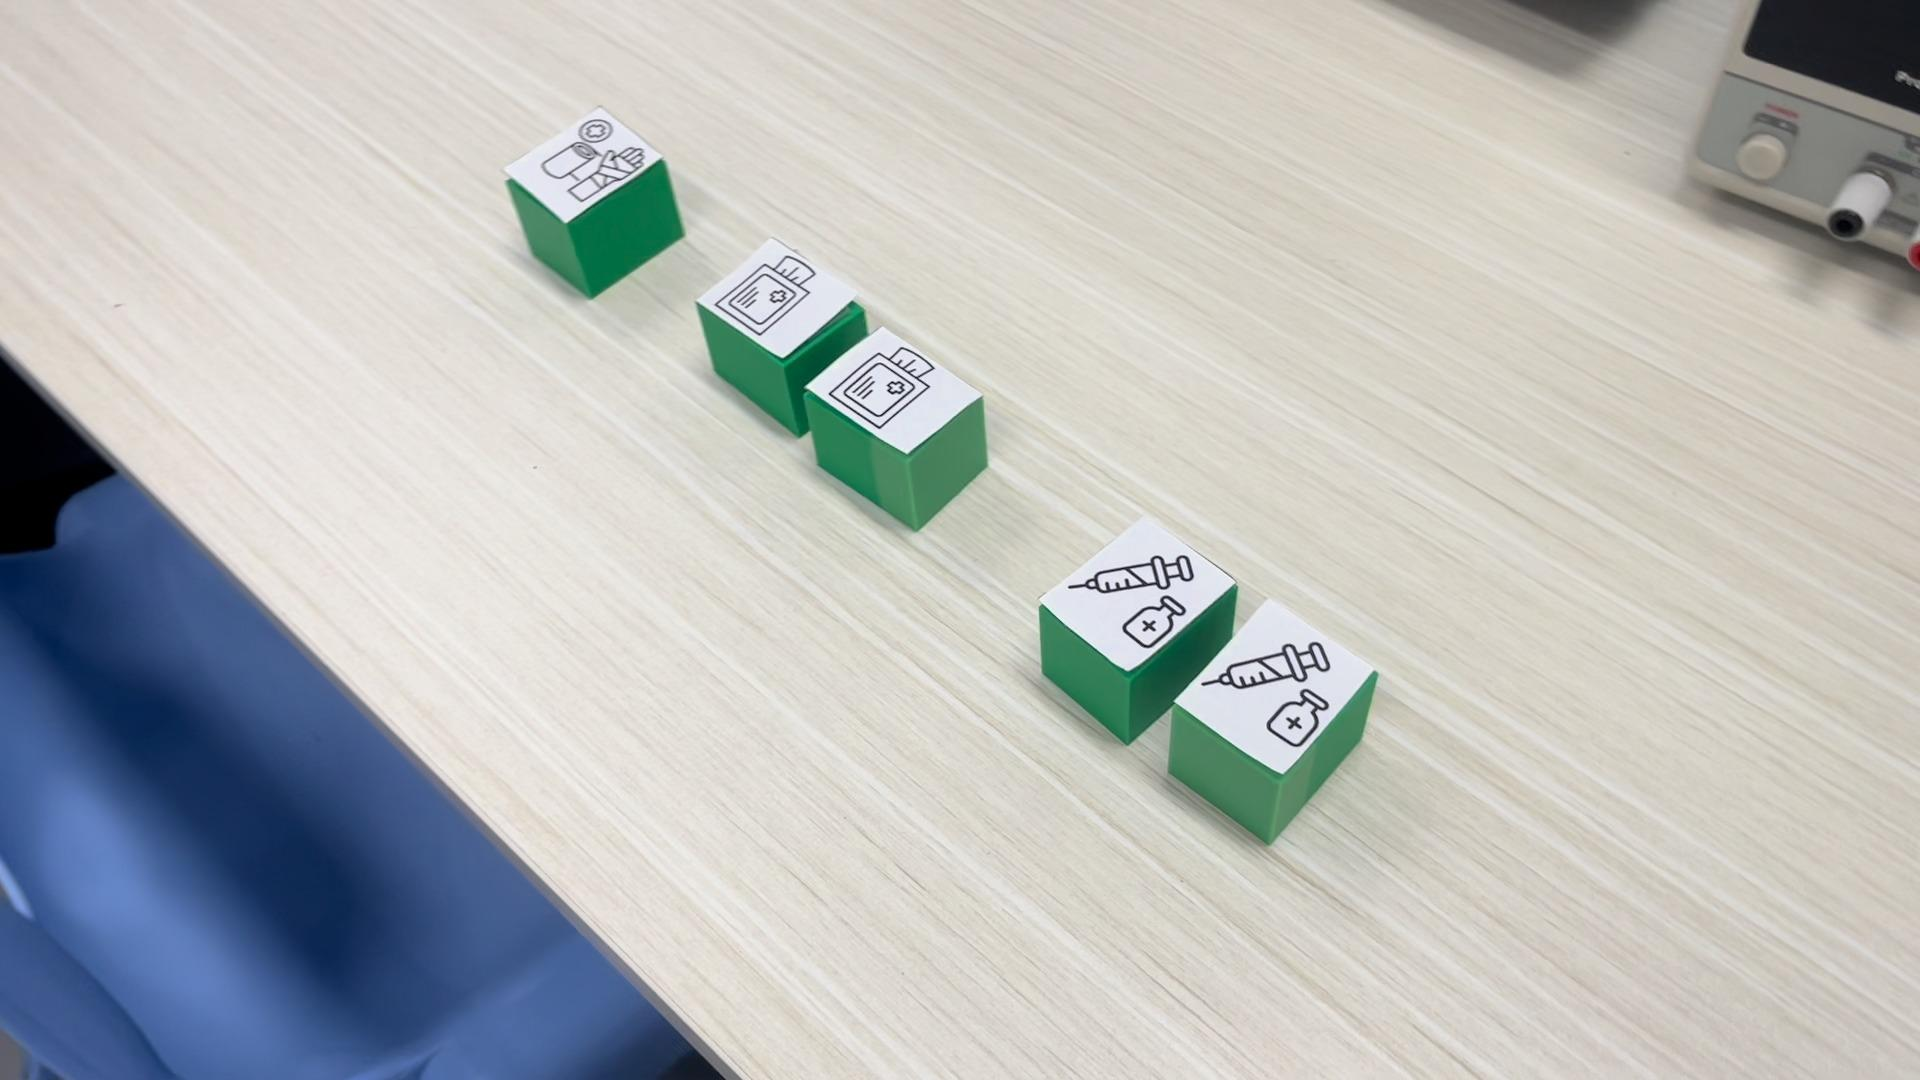Bandages: (498, 104, 683, 297)
Gauze: (808, 324, 989, 531), (696, 235, 862, 365)
antiseptic cream: (1174, 600, 1383, 843), (1034, 513, 1240, 745)
